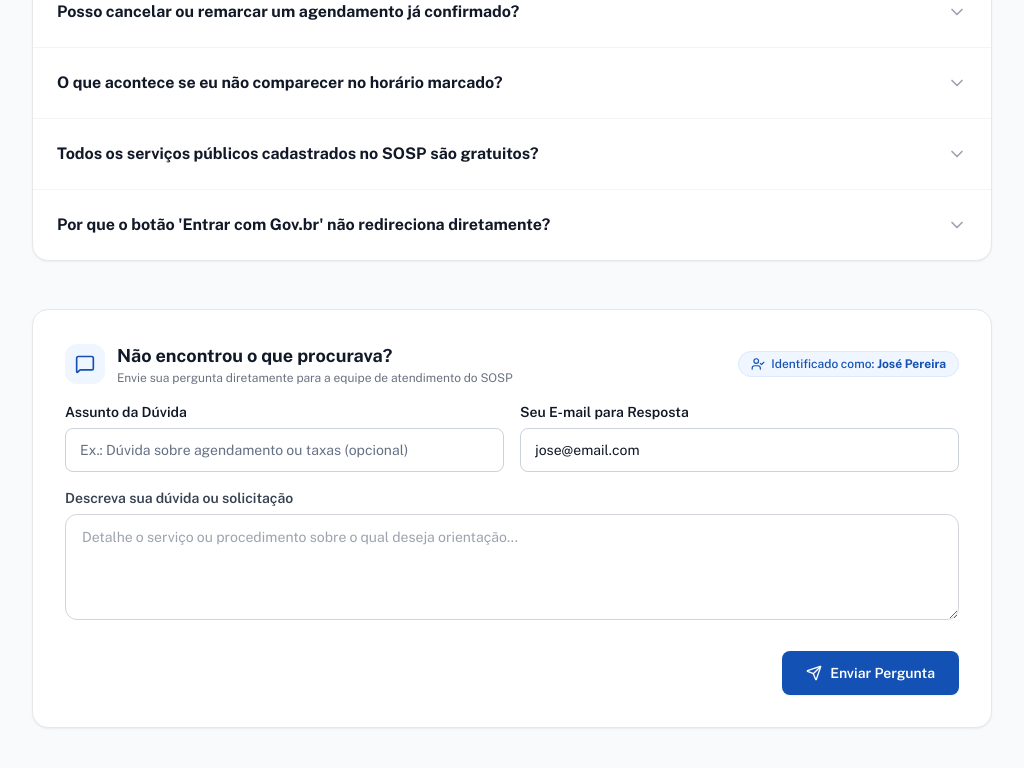
Test: FAQ Autenticado & Auth Guard (RF-11, UC-14, RN-28) › Cenário 3: Sessão Expirada / Erro 401 do Backend (RN-28) › deve limpar o token local e exibir alerta de sessão expirada com CTA para login
The image size is (1024, 768).
(page scrolled)
Replace the text in the text box labelled "Descreva sua dúvida ou solicitação" with "Minha dúvida foi enviada com token expirado." at (512, 566), box [65,514,959,620]
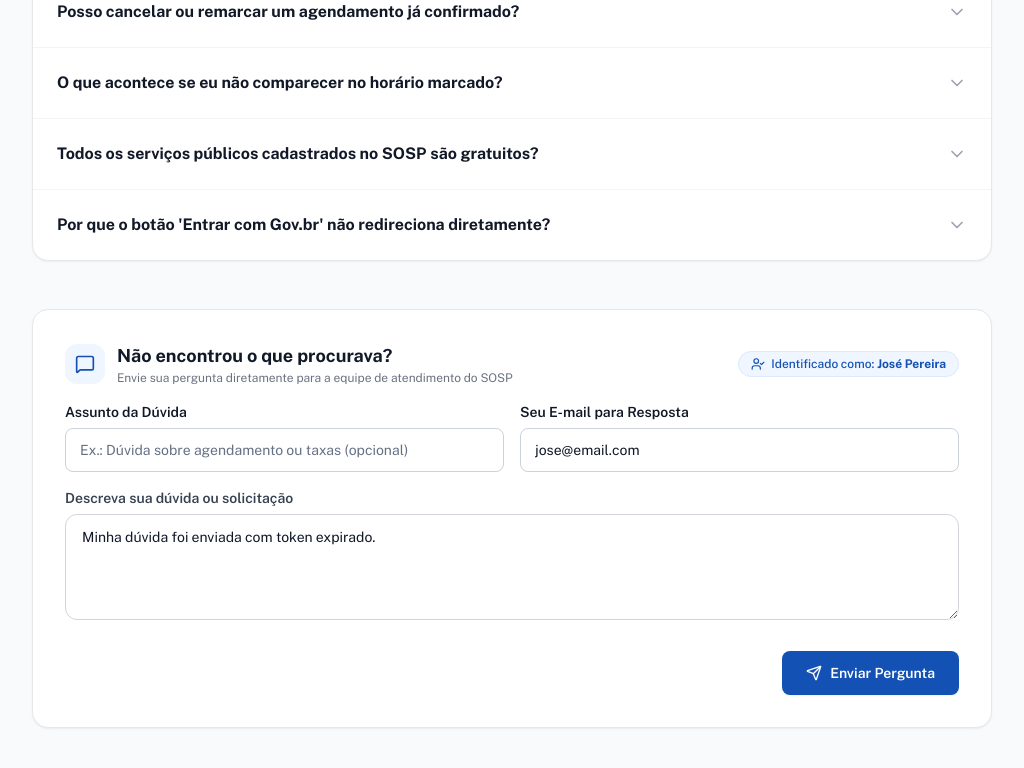
Click the button "Enviar Pergunta" at (871, 672), box [782,650,959,694]
(page scrolled)
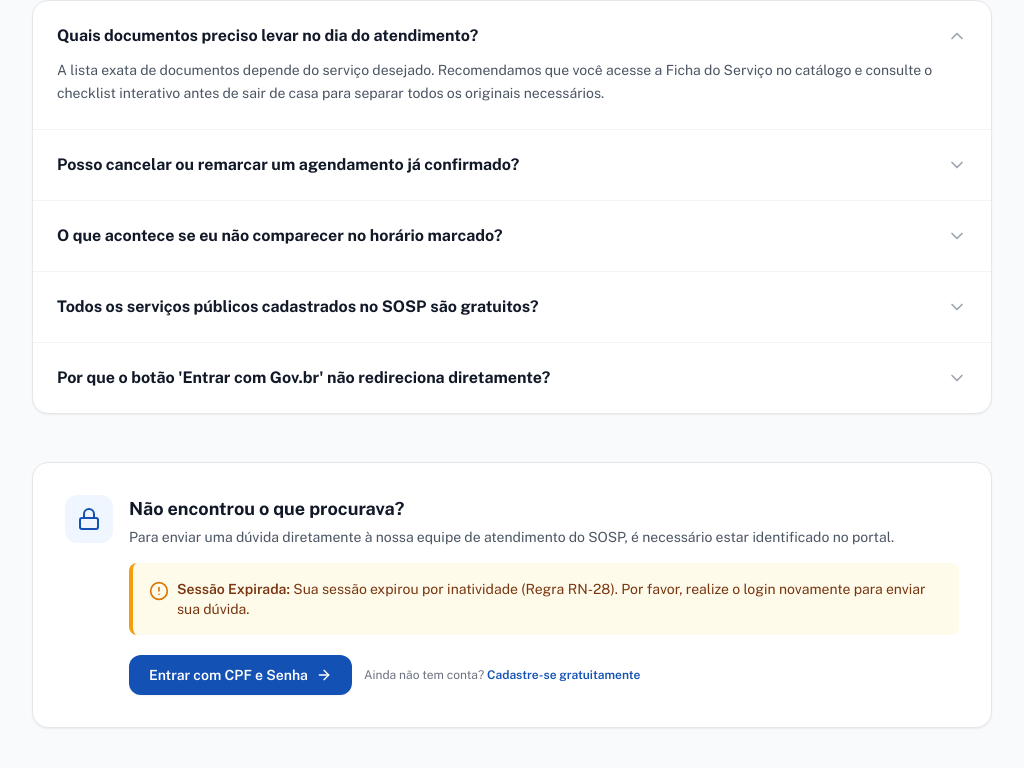
Expected: the element with test id "faq-auth-guard" is shown, [32,462,992,728]
Expected: the text "sessão expirou por inatividade" is shown, [177,580,925,616]
